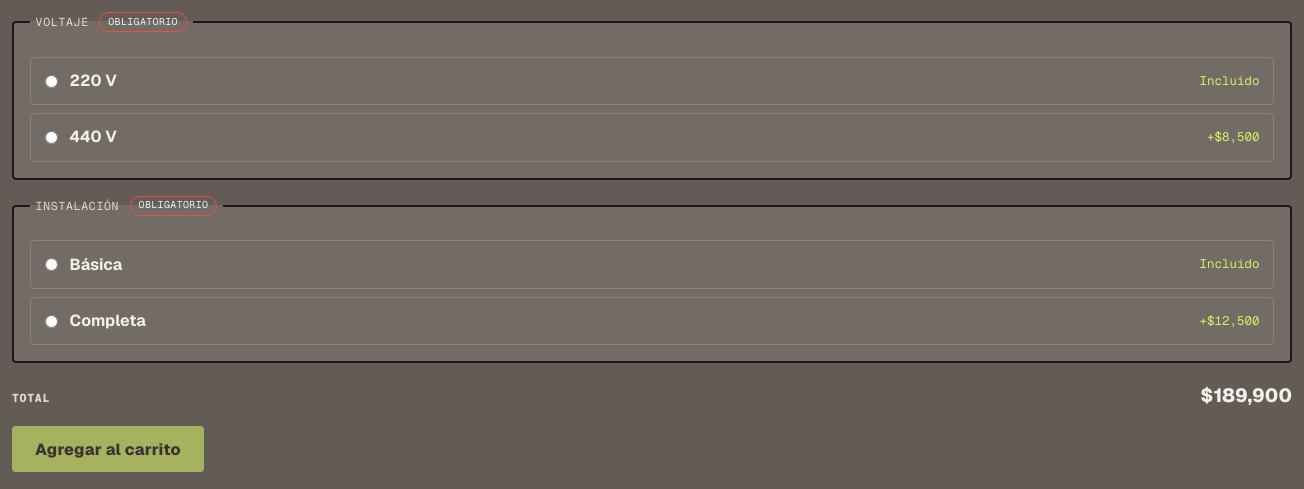
updates the live total from selected deltas and submits choice ids, not money
Click the radio button labelled "440 V +$8,500".
click(51, 137)  # box [45,131,58,144]
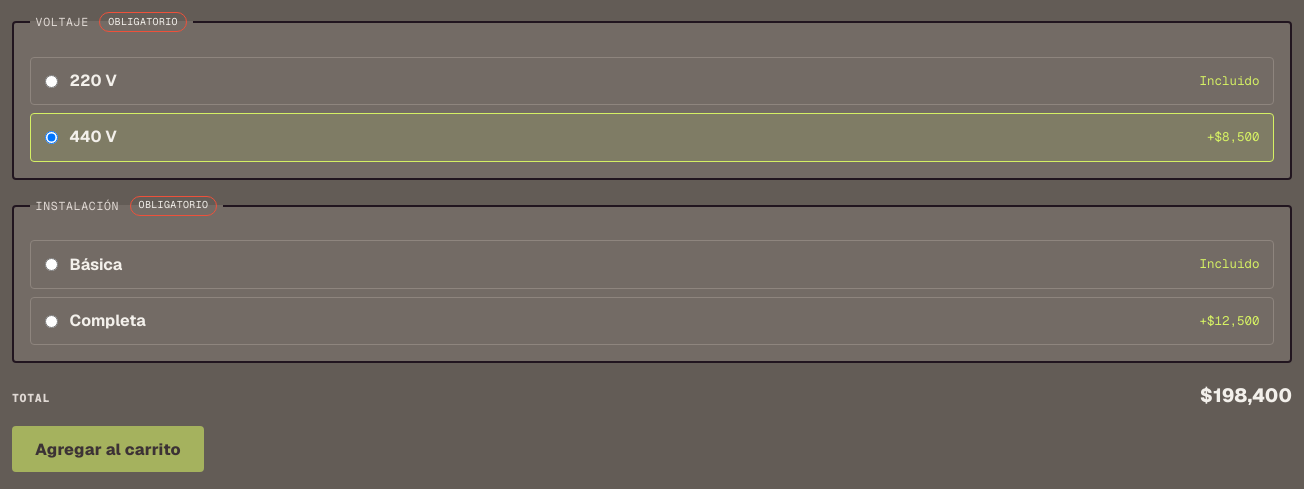
Check: the text "$198,400" is shown, box [1200,382,1292,410]
Click the radio button labelled "Completa +$12,500".
click(51, 321)  # box [45,314,58,328]
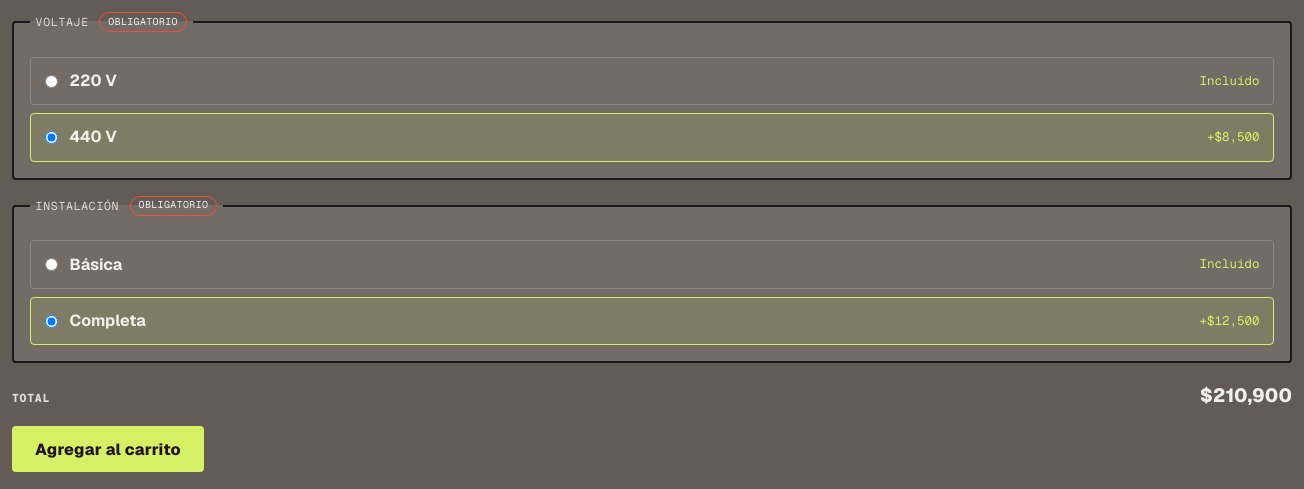
Check: the text "$210,900" is shown, box [1200,382,1292,410]
Check: the button "Agregar al carrito" is enabled, box [12,426,204,472]
